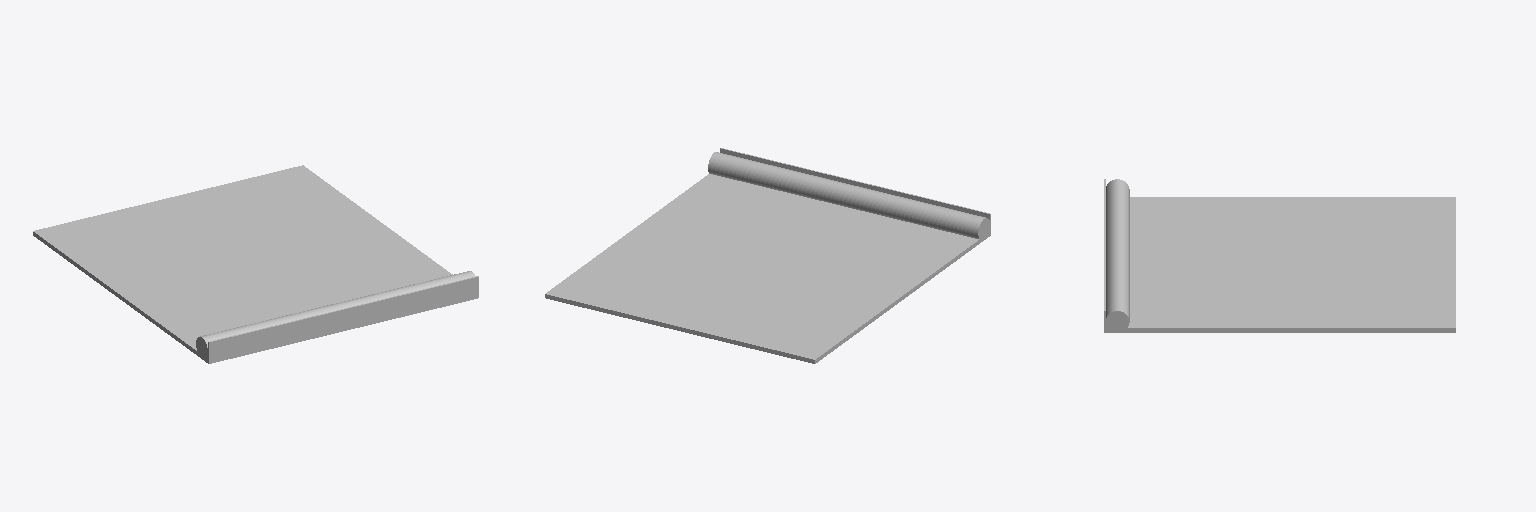
Rendered from APT Roller Door v1.obj.
3 renders of one model, left to right at view 1: azimuth 30°, elevation 25°; view 2: azimuth 150°, elevation 25°; view 3: azimuth 270°, elevation 25°, orthographic.
Parts seen in each view (by area): view 1: Solid1; view 2: Solid1; view 3: Solid1.
Boxes of the visible parts, x1,y1,x2,y2 form: Solid1: [33, 165, 478, 363]; Solid1: [545, 148, 990, 363]; Solid1: [1104, 179, 1455, 332].
Bounding box in the file's own units: 1950 × 150 × 2200.